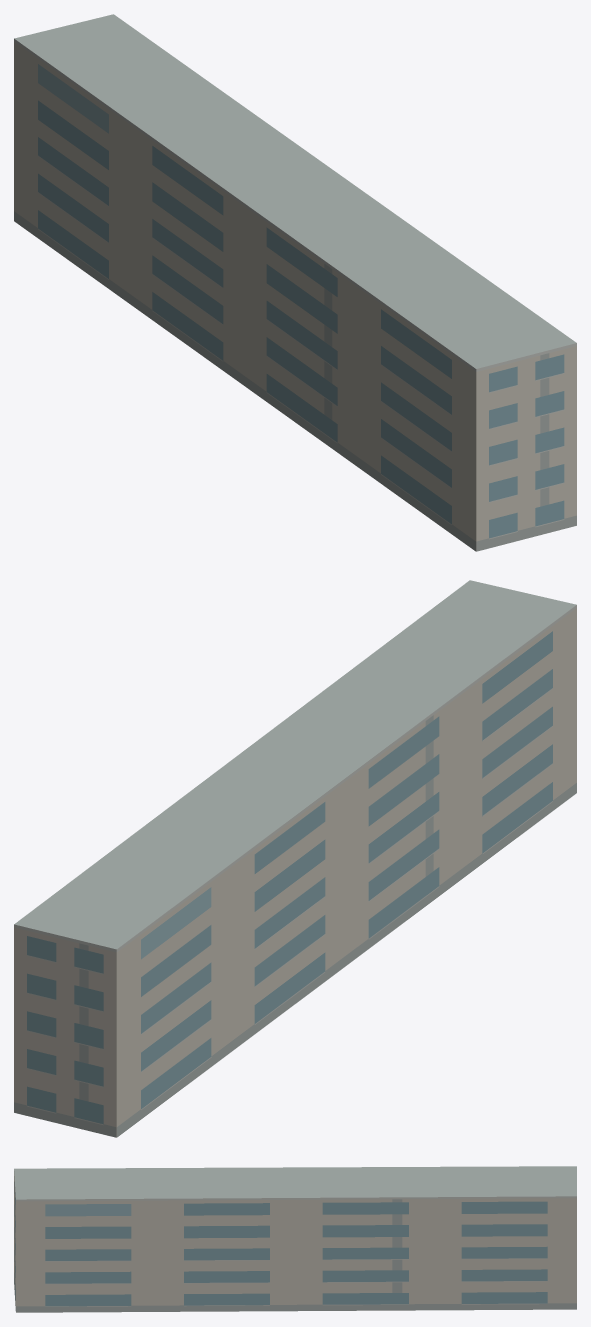
Rendered from residential-ca8849b9-e472-4ffc-bb7d-03fa36e7f844.glb.
3 views of the same model, one above another, from view 1: azimuth 30°, elevation 25°; view 2: azimuth 150°, elevation 25°; view 3: azimuth 270°, elevation 25° (orthographic). The views are drawn at different scales.
Parts seen in each view (by area): view 1: residential-ca8849b9-e472-4ffc-bb7d-03fa36e7f844.tmp; view 2: residential-ca8849b9-e472-4ffc-bb7d-03fa36e7f844.tmp; view 3: residential-ca8849b9-e472-4ffc-bb7d-03fa36e7f844.tmp.
Part boxes in pixels (x1,y1,x2,y2): residential-ca8849b9-e472-4ffc-bb7d-03fa36e7f844.tmp: (14, 14, 576, 551); residential-ca8849b9-e472-4ffc-bb7d-03fa36e7f844.tmp: (14, 580, 576, 1137); residential-ca8849b9-e472-4ffc-bb7d-03fa36e7f844.tmp: (14, 1166, 576, 1312).
Size of the model in its own units: 9.64 by 15.25 by 68.75.
